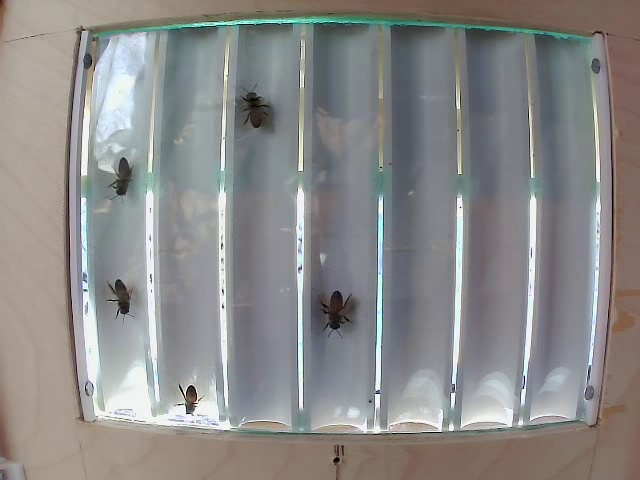bee: (171, 373, 223, 428), (98, 270, 140, 325), (307, 274, 342, 330), (239, 87, 273, 132), (103, 159, 135, 206)
